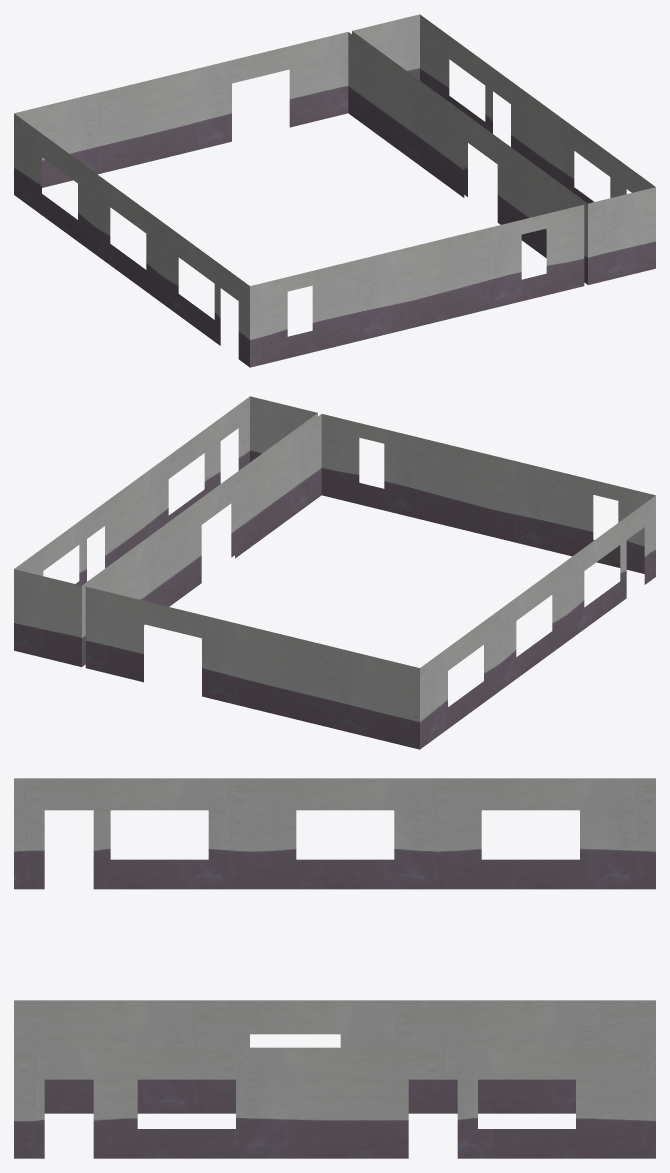
File: A4_H2_Walls.FBX
3 views of the same model, one above another, from view 1: azimuth 30°, elevation 25°; view 2: azimuth 150°, elevation 25°; view 3: azimuth 270°, elevation 25° (orthographic). The views are drawn at different scales.
Visible parts, largest first — view 1: A4_H2_Walls; view 2: A4_H2_Walls; view 3: A4_H2_Walls.
Boxes of the visible parts, x1,y1,x2,y2 form: A4_H2_Walls: [14, 14, 655, 367]; A4_H2_Walls: [14, 396, 655, 749]; A4_H2_Walls: [14, 778, 655, 1158].
Bounding box in the file's own units: 1625 × 312 × 1637.
1 material, 1 textured.
